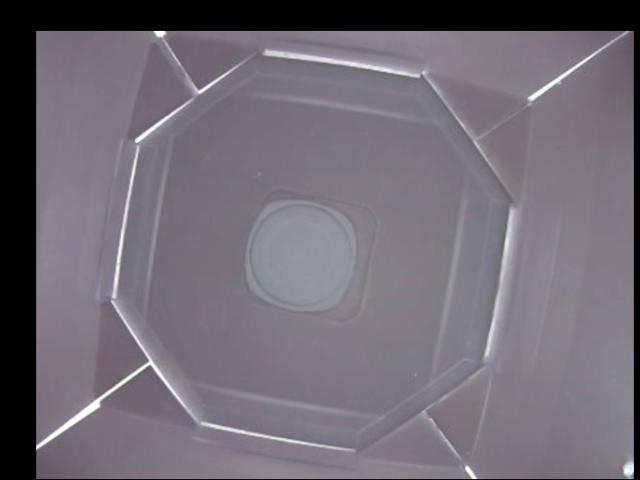Cup: (242, 190, 376, 323)
